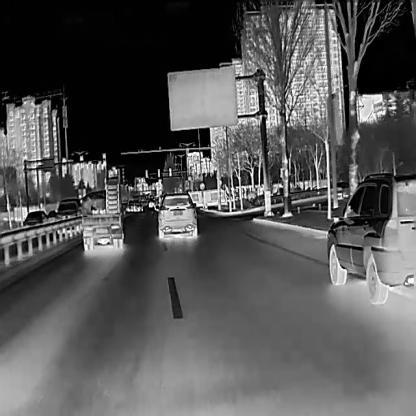car: (326, 172, 415, 305), (79, 180, 123, 251), (154, 190, 197, 241), (55, 198, 81, 234), (21, 209, 45, 234), (46, 208, 56, 223), (134, 202, 143, 212), (124, 203, 133, 212), (148, 201, 154, 207)
